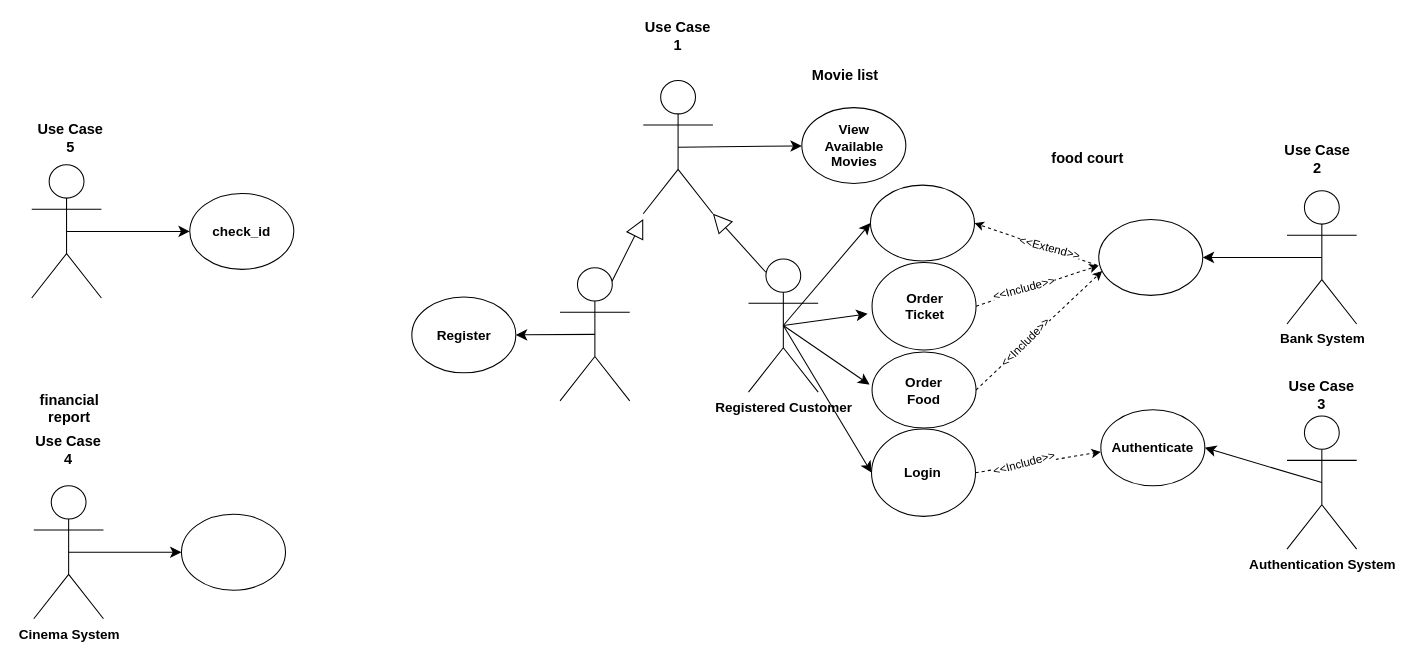
This 1412x660 diagram has some shape labels left out. The shapes that lost their labels are listed below. From the top down, each one's box as (x1, y1, x2, y2) in pixels, then its label:
(642, 80, 713, 214): customer
(31, 164, 101, 298): Employee
(869, 184, 974, 261): Change Seat
(1098, 218, 1203, 295): Check Credit
(559, 267, 630, 401): New Customer
(180, 513, 285, 590): calculate net profit
